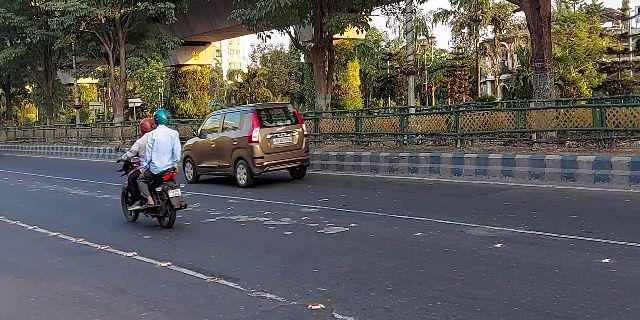Car: (183, 99, 312, 187)
Motorbike: (116, 108, 190, 233)
